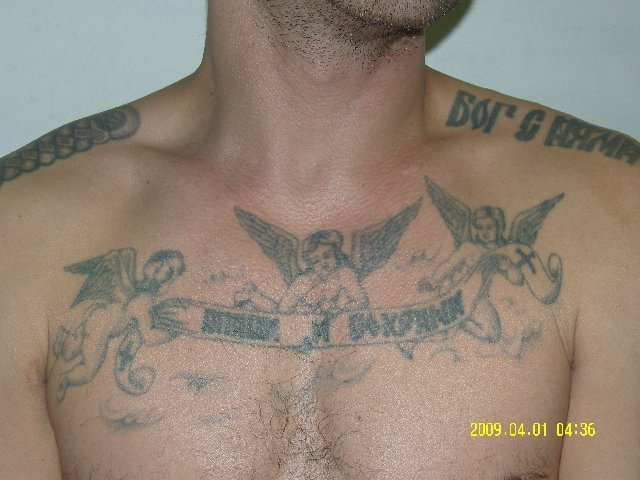tatu1_angel: (37, 244, 208, 400), (421, 172, 562, 339), (224, 198, 422, 311)
tatu3_bukva: (442, 76, 638, 181), (159, 294, 493, 341)
